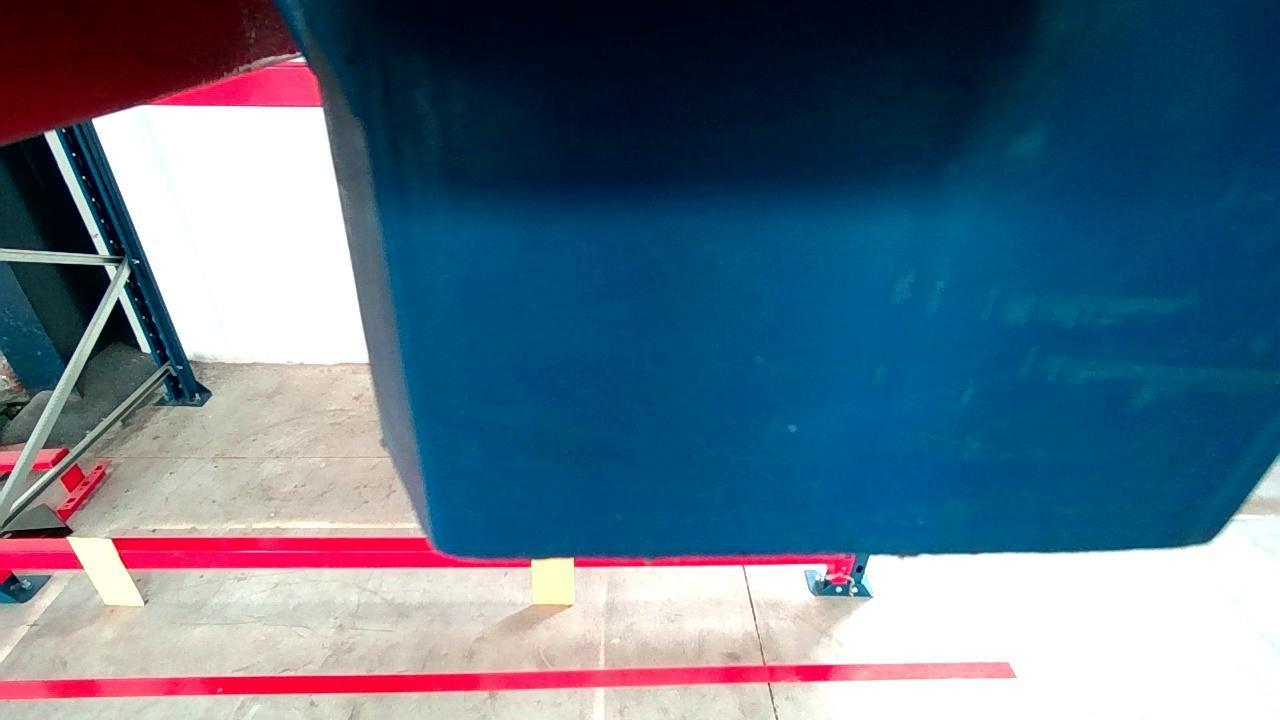h_rack: (0, 548, 834, 570)
orange_strip: (73, 540, 140, 607), (531, 553, 578, 605)
red_line: (0, 659, 1015, 698)
